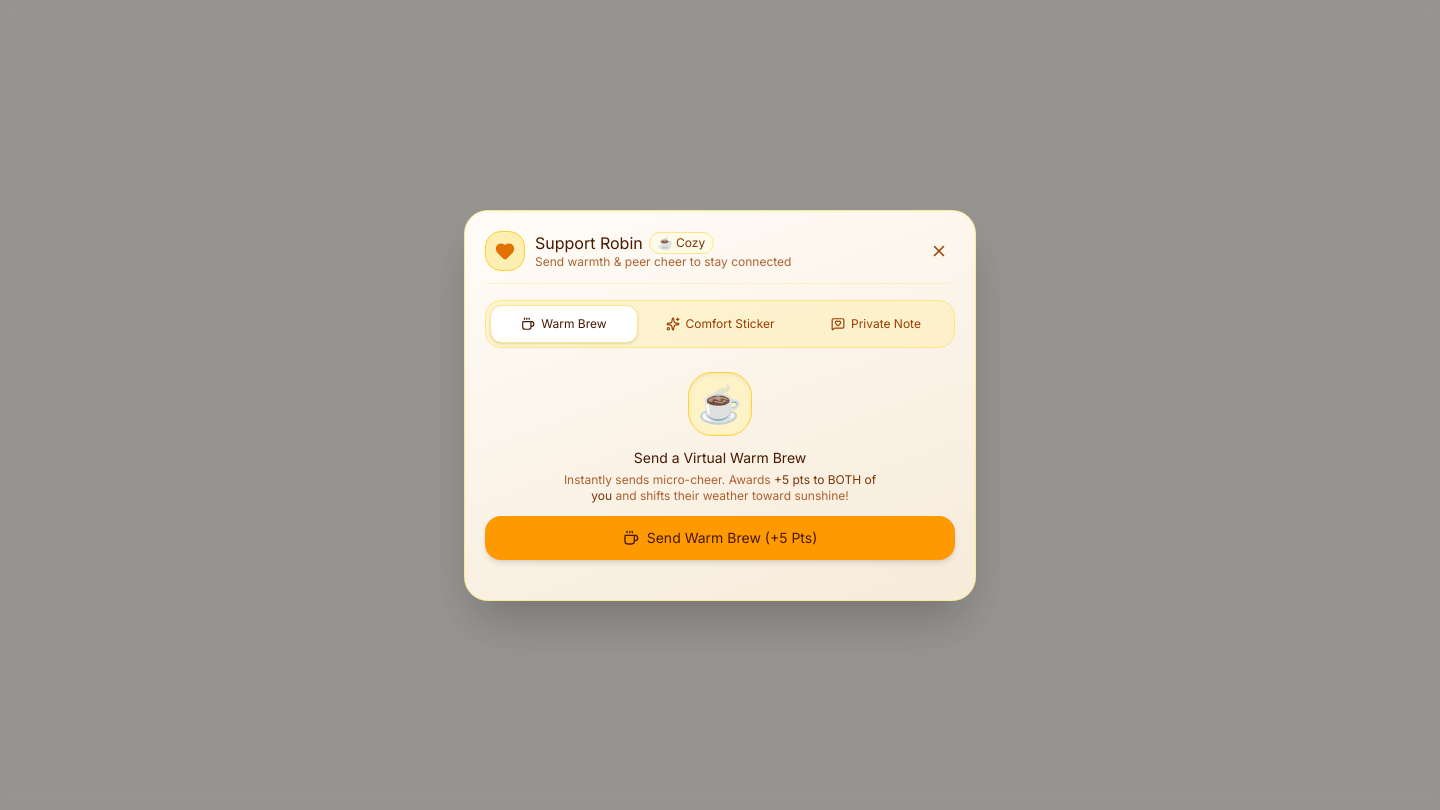
Scenario: PeerSupportDrawer Component › allows composing and delivering a supportive private note
Click the button "Private Note" at (876, 324), box [802,304,950,342]
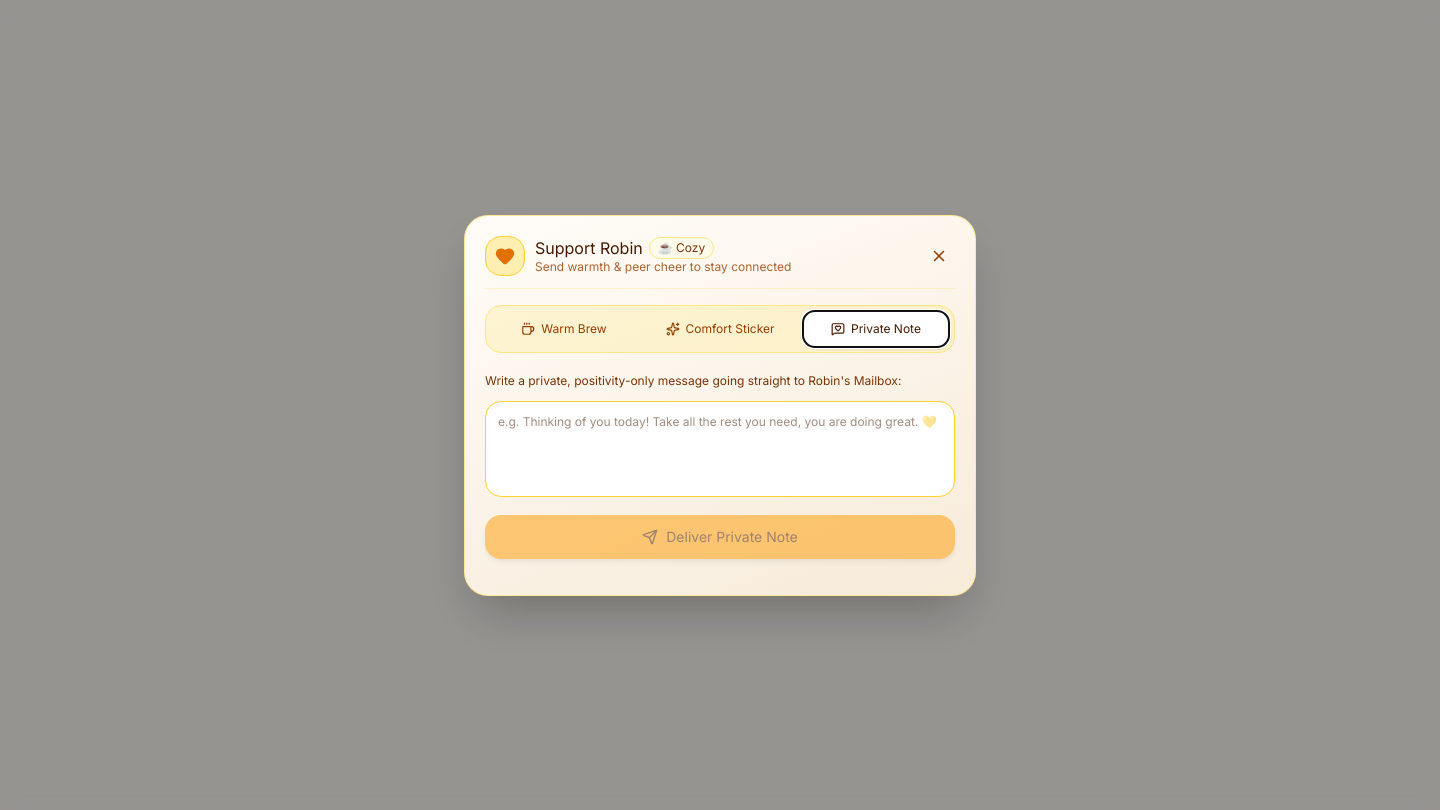
Replace the text in the text box with placeholder "e.g. Thinking of you today!" with "Thinking of you today! Have a wonderful relaxing afternoon. 💛" at (720, 448), box [485,400,955,496]
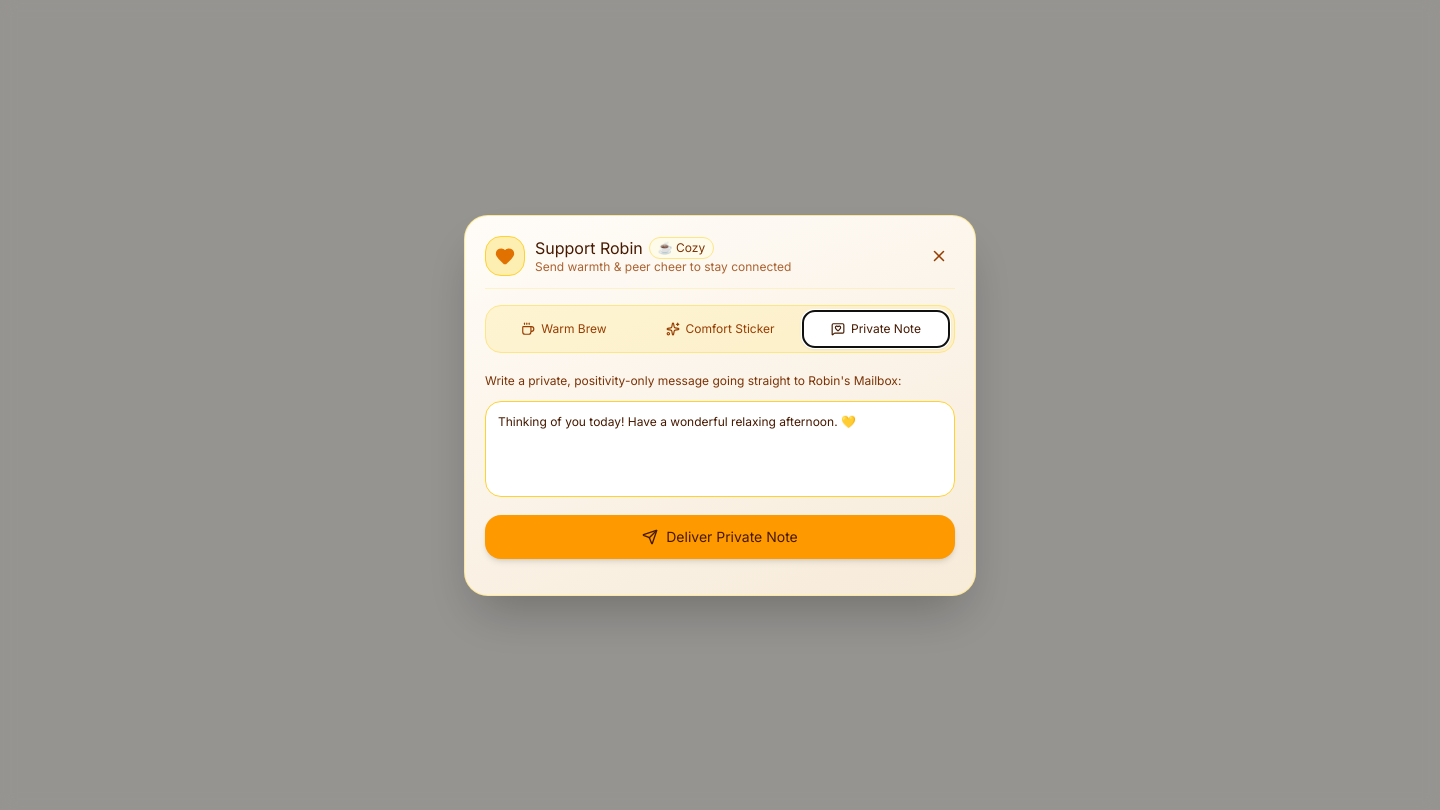
Click the button "Deliver Private Note" at (720, 536), box [485,514,955,558]
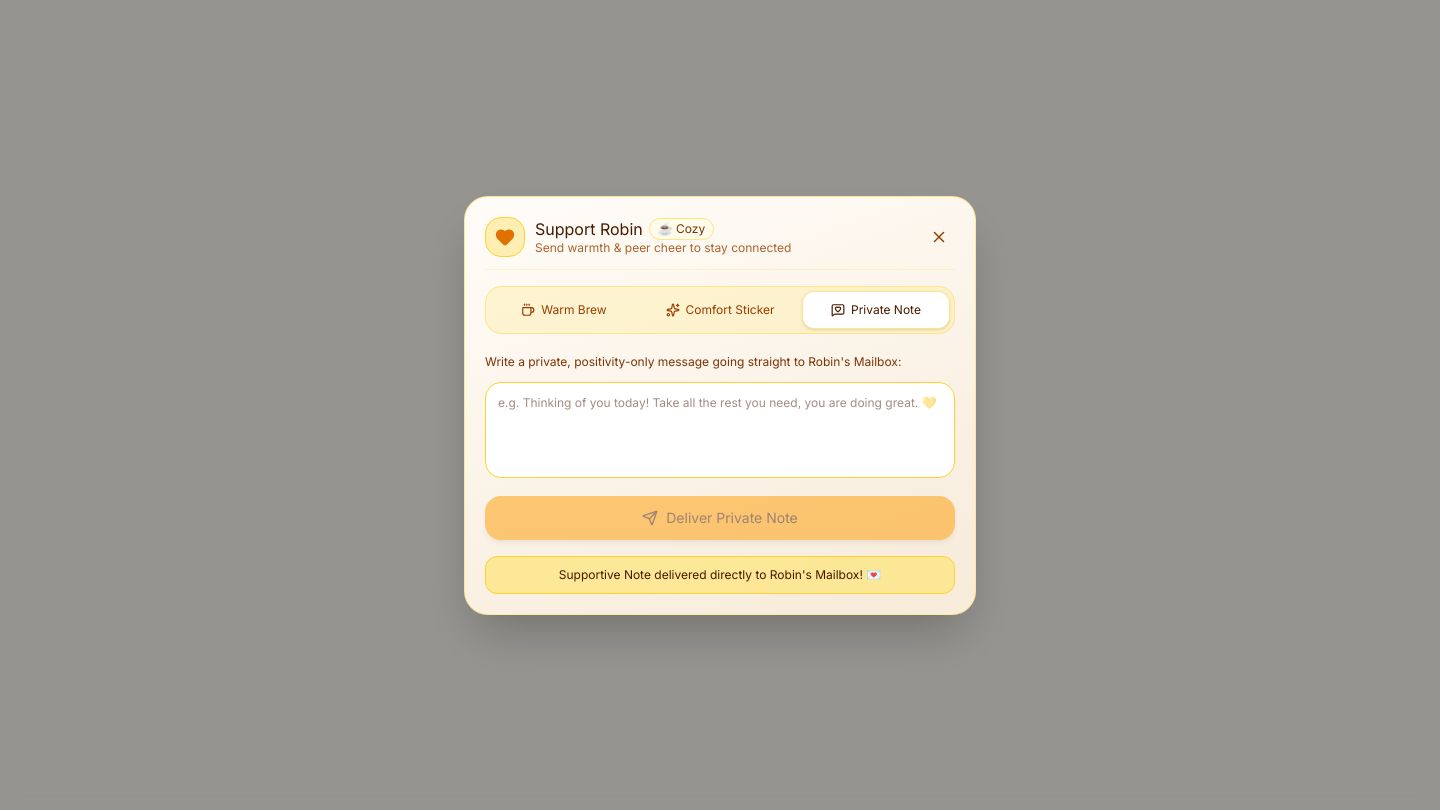
Expected: the text "Supportive Note delivered directly to Robin's Mailbox! 💌" is shown, [485,556,955,594]
